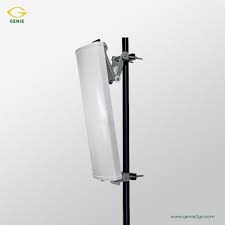sa: (65, 30, 154, 201)
